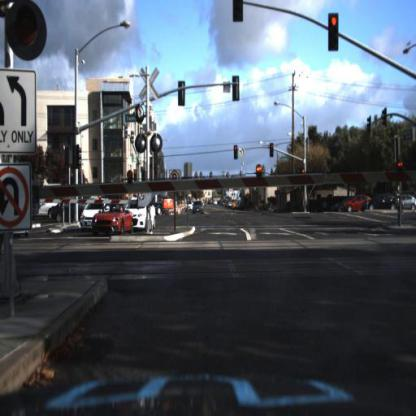car: (89, 203, 133, 235), (124, 196, 156, 232), (79, 198, 112, 231), (363, 192, 406, 215), (77, 198, 104, 232), (341, 194, 374, 217), (332, 196, 354, 214), (190, 196, 207, 217), (193, 199, 204, 215)
trafficLight: (12, 2, 44, 55), (233, 2, 245, 25)
trafficLight-Red: (328, 14, 340, 52), (269, 140, 277, 161), (301, 165, 307, 186), (233, 143, 239, 161), (271, 142, 275, 158)
